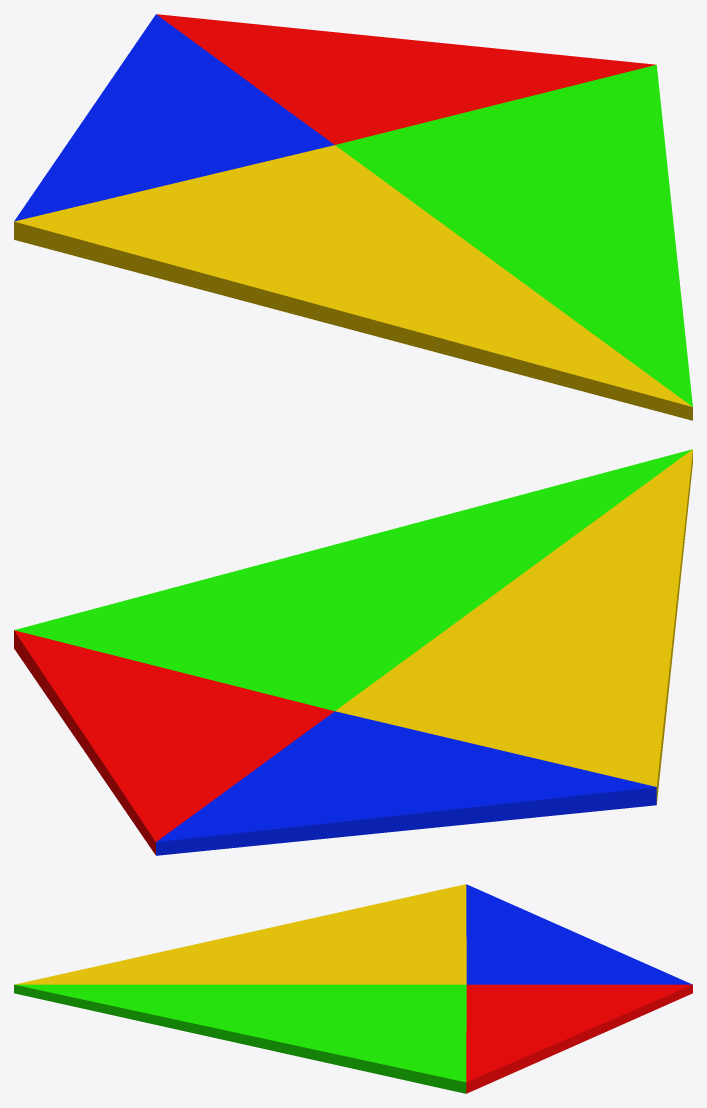
Rendered from Kite.fbx.
3 views of the same model, one above another, from view 1: azimuth 30°, elevation 25°; view 2: azimuth 150°, elevation 25°; view 3: azimuth 270°, elevation 25° (orthographic). The views are drawn at different scales.
Visible parts, largest first — view 1: Cube; view 2: Cube; view 3: Cube.
Boxes of the visible parts, left/top/right/bottom form: Cube: left=14, top=14, right=692, bottom=420; Cube: left=14, top=449, right=692, bottom=855; Cube: left=14, top=884, right=692, bottom=1093.
Bounding box in the file's own units: 89.65 × 2.43 × 130.
Materials: 1 (1 with a texture image).
